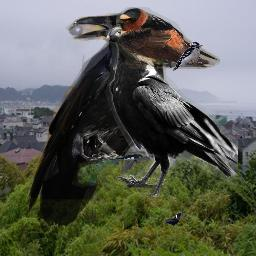Crow: (28, 13, 168, 230), (102, 23, 238, 197), (165, 212, 183, 228)
Swallow: (116, 7, 220, 69)
Woodpecker: (173, 42, 203, 71)
